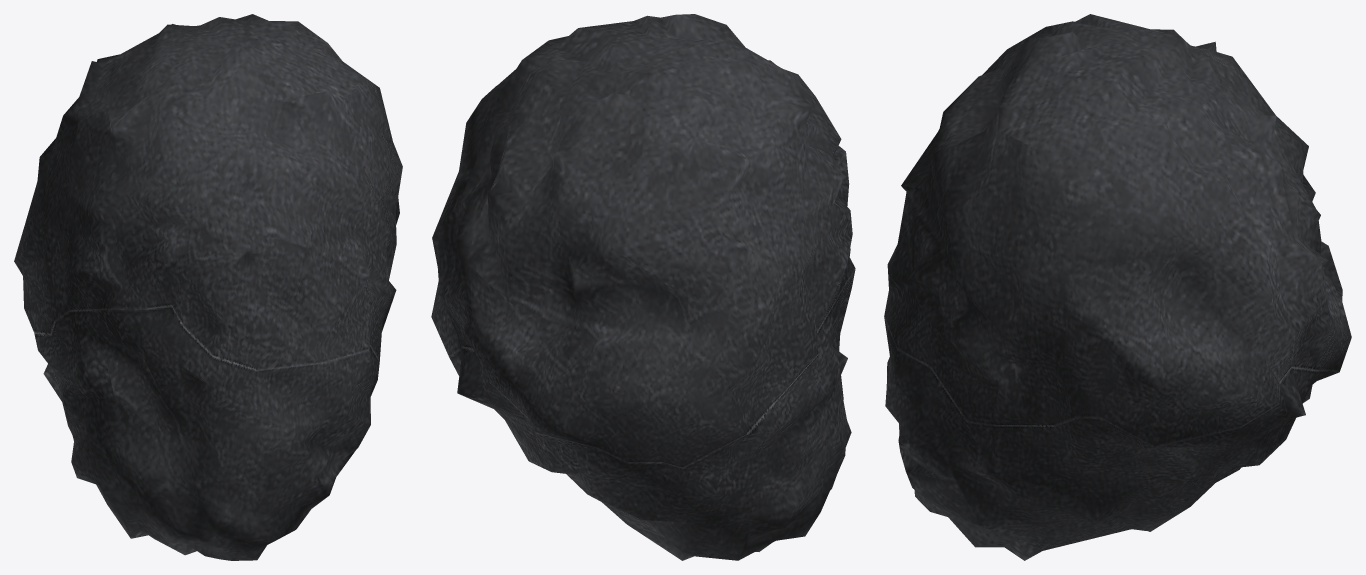
The model's file is asteroid_1k.gltf.
The picture shows the model from 3 angles, left to right: view 1: azimuth 30°, elevation 25°; view 2: azimuth 150°, elevation 25°; view 3: azimuth 270°, elevation 25°; orthographic projection. The views are drawn at different scales.
Visible parts, largest first — view 1: Object_2; view 2: Object_2; view 3: Object_2.
Boxes of the visible parts, x1=… form: Object_2: x1=14, y1=14, x2=402, y2=560; Object_2: x1=431, y1=14, x2=855, y2=560; Object_2: x1=884, y1=14, x2=1351, y2=560.
Size of the model in its own units: 2.25 by 3.14 by 2.47.
Materials: 1 (1 with a texture image).
